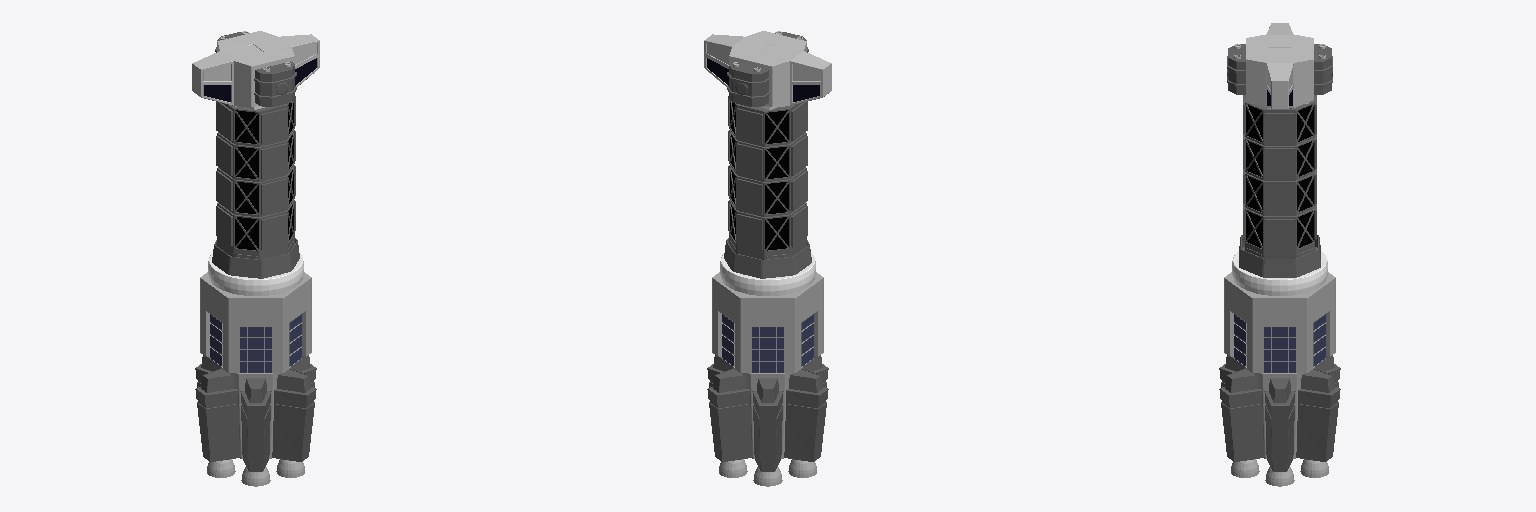
File: hammer.obj
The picture shows the model from 3 angles: view 1: azimuth 30°, elevation 25°; view 2: azimuth 150°, elevation 25°; view 3: azimuth 270°, elevation 25°; orthographic projection.
Visible parts, largest first — view 1: Cylinder.005_Cylinder.003; view 2: Cylinder.005_Cylinder.003; view 3: Cylinder.005_Cylinder.003.
Boxes of the visible parts, <box> form: Cylinder.005_Cylinder.003: <box>192,31,319,486</box>; Cylinder.005_Cylinder.003: <box>704,31,831,486</box>; Cylinder.005_Cylinder.003: <box>1219,23,1340,486</box>.
Bounding box in the file's own units: 2.46 × 8.19 × 2.17.